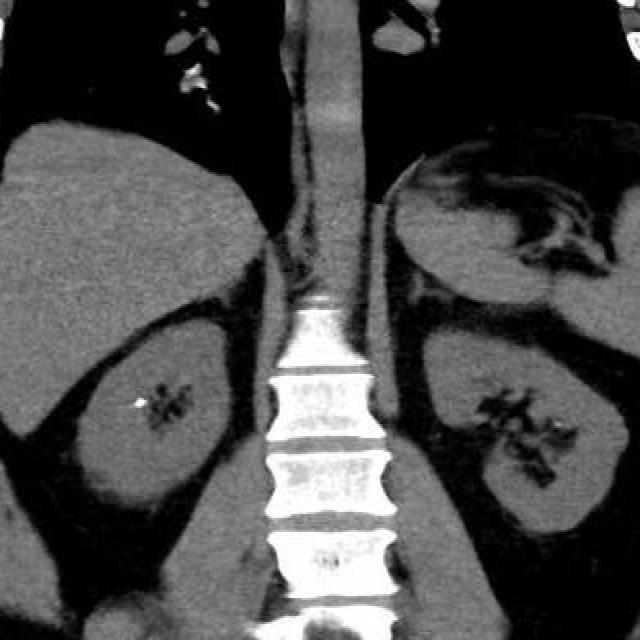Tas_Var: (129, 391, 151, 417), (551, 418, 567, 430)
